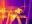Hotspot: (0, 0, 6, 23), (7, 14, 17, 23), (15, 8, 22, 14)
